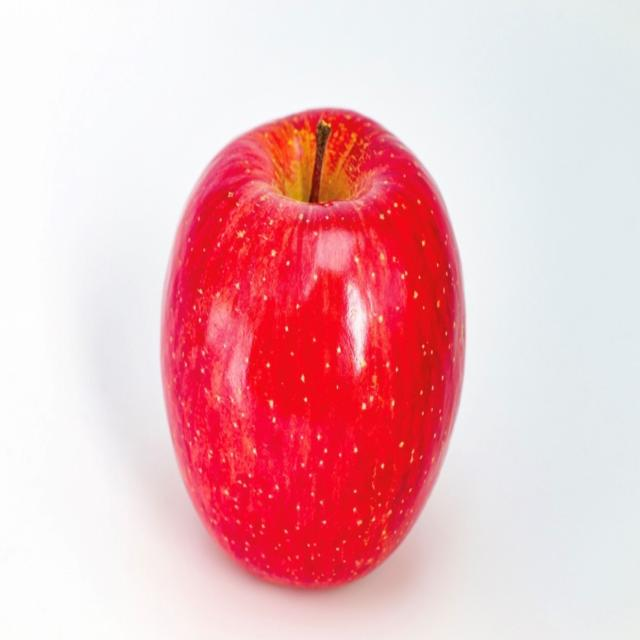Apple: (163, 99, 470, 592)
